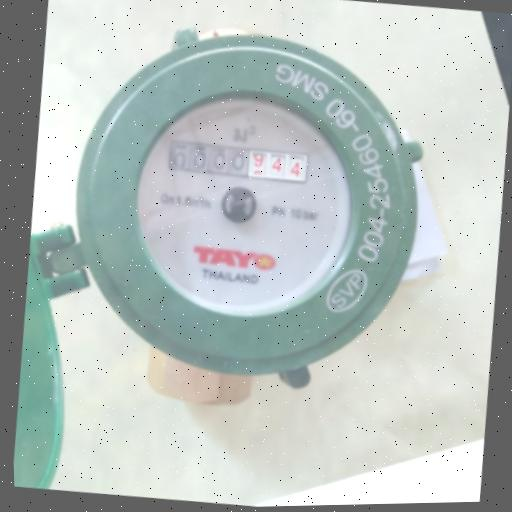0: (171, 143, 188, 169), (190, 146, 207, 170), (210, 147, 227, 171), (229, 150, 245, 174)
4: (268, 155, 284, 177), (287, 156, 302, 179)
9: (250, 154, 266, 175)
border_water_meter_number: (167, 137, 309, 187)
